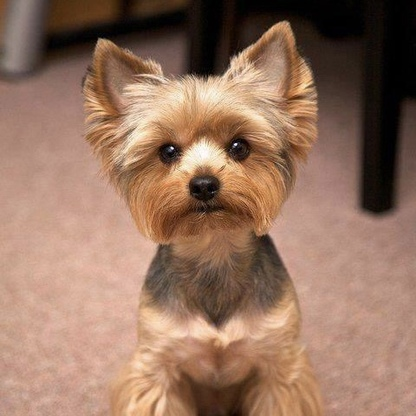yorkshire: (80, 18, 324, 416)
